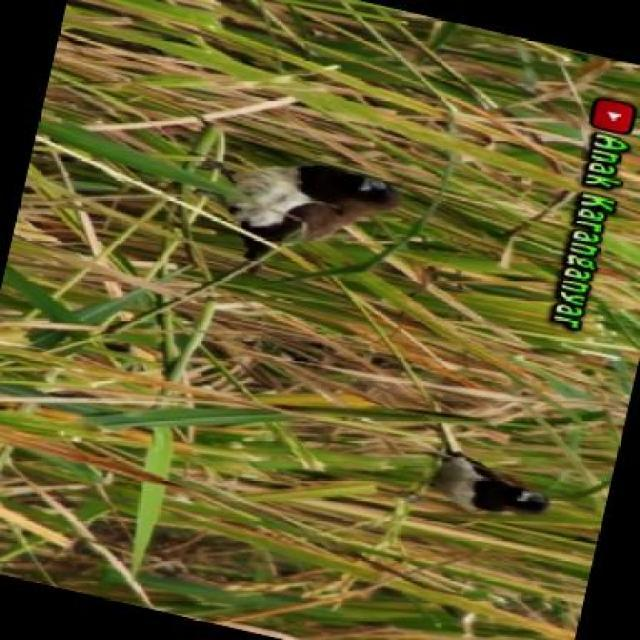Bird: (215, 149, 407, 261), (426, 410, 563, 531)
